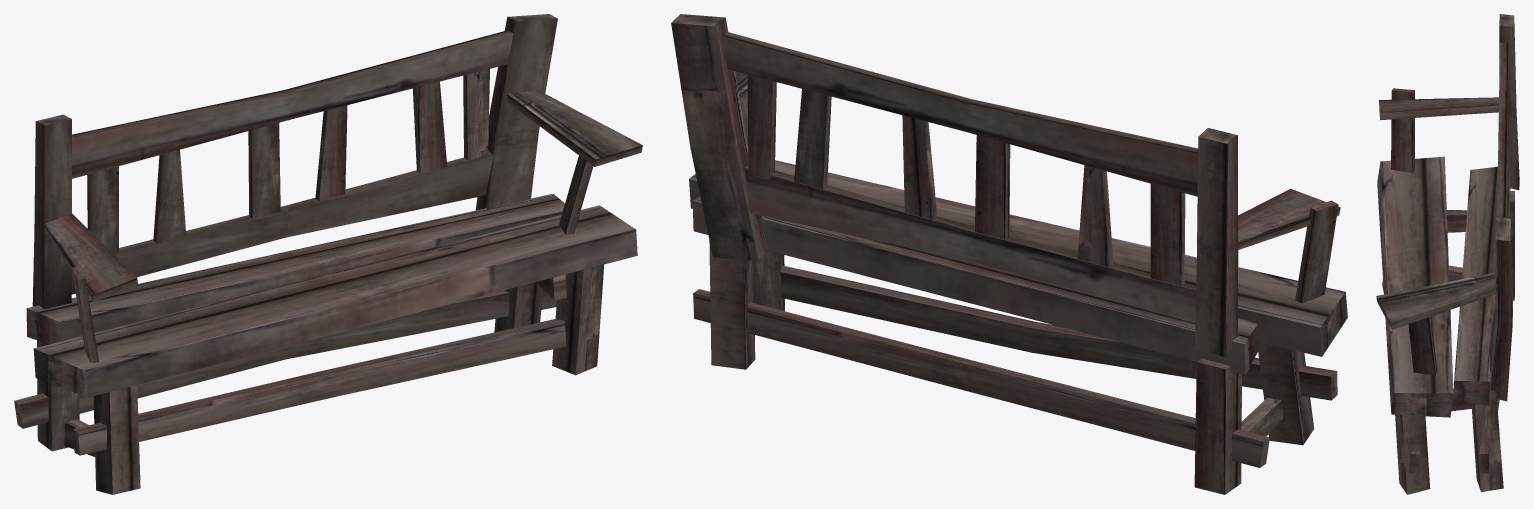
The model's file is bench_weathered.fbx.
3 views of the same model, side by side, from view 1: azimuth 30°, elevation 25°; view 2: azimuth 150°, elevation 25°; view 3: azimuth 270°, elevation 25° (orthographic). The views are drawn at different scales.
Visible parts, largest first — view 1: plank_seat2, plank_seat1, horizontal_1, leg_horizontal_2, horizontal_2, post_3, leg_horizontal_1, post_1, arm_horizontal_1, leg_post_4, leg_post_1, arm_horizontal_2 (+10 smaller); view 2: plank_seat1, horizontal_1, horizontal_2, leg_horizontal_1, leg_horizontal_2, post_3, plank_seat2, post_1, leg_post_2, leg_post_3, leg_post_4, vertical_4 (+9 smaller); view 3: plank_seat2, plank_seat1, arm_horizontal_1, post_3, arm_horizontal_2, leg_post_1, leg_post_3, post_1, horizontal_1, arm_vertical1, arm_vertical2, plank_seat3 (+6 smaller).
Boxes of the visible parts, box(x1,y1,x2,y2) form: plank_seat2: box(33, 205, 637, 397); plank_seat1: box(26, 193, 564, 344); horizontal_1: box(72, 30, 513, 178); leg_horizontal_2: box(72, 319, 566, 455); horizontal_2: box(71, 151, 493, 294); post_3: box(475, 14, 557, 210); leg_horizontal_1: box(14, 289, 556, 428); post_1: box(32, 114, 71, 309); arm_horizontal_1: box(507, 90, 642, 166); leg_post_4: box(93, 385, 140, 494); leg_post_1: box(552, 264, 604, 375); arm_horizontal_2: box(44, 213, 137, 302); plank_seat1: box(692, 196, 1258, 374); horizontal_1: box(722, 32, 1197, 196); horizontal_2: box(745, 166, 1196, 323); leg_horizontal_1: box(693, 289, 1269, 467); leg_horizontal_2: box(779, 265, 1337, 400); post_3: box(671, 14, 767, 260); plank_seat2: box(689, 160, 1347, 356); post_1: box(1194, 128, 1238, 356); leg_post_2: box(1194, 358, 1241, 494); leg_post_3: box(709, 240, 755, 369); leg_post_4: box(1258, 342, 1314, 445); vertical_4: box(975, 135, 1010, 239); plank_seat2: box(1377, 156, 1453, 417); plank_seat1: box(1453, 166, 1497, 405); arm_horizontal_1: box(1376, 273, 1495, 329); post_3: box(1490, 216, 1512, 401); arm_horizontal_2: box(1379, 97, 1498, 120); leg_post_1: box(1395, 414, 1430, 494); leg_post_3: box(1472, 390, 1503, 492); post_1: box(1499, 14, 1519, 190); horizontal_1: box(1497, 43, 1508, 216); arm_vertical1: box(1391, 88, 1414, 173); arm_vertical2: box(1408, 316, 1437, 375); plank_seat3: box(1446, 210, 1467, 232).
Bounding box in the file's own units: 665 × 359 × 168.
Materials: 1 (1 with a texture image).
